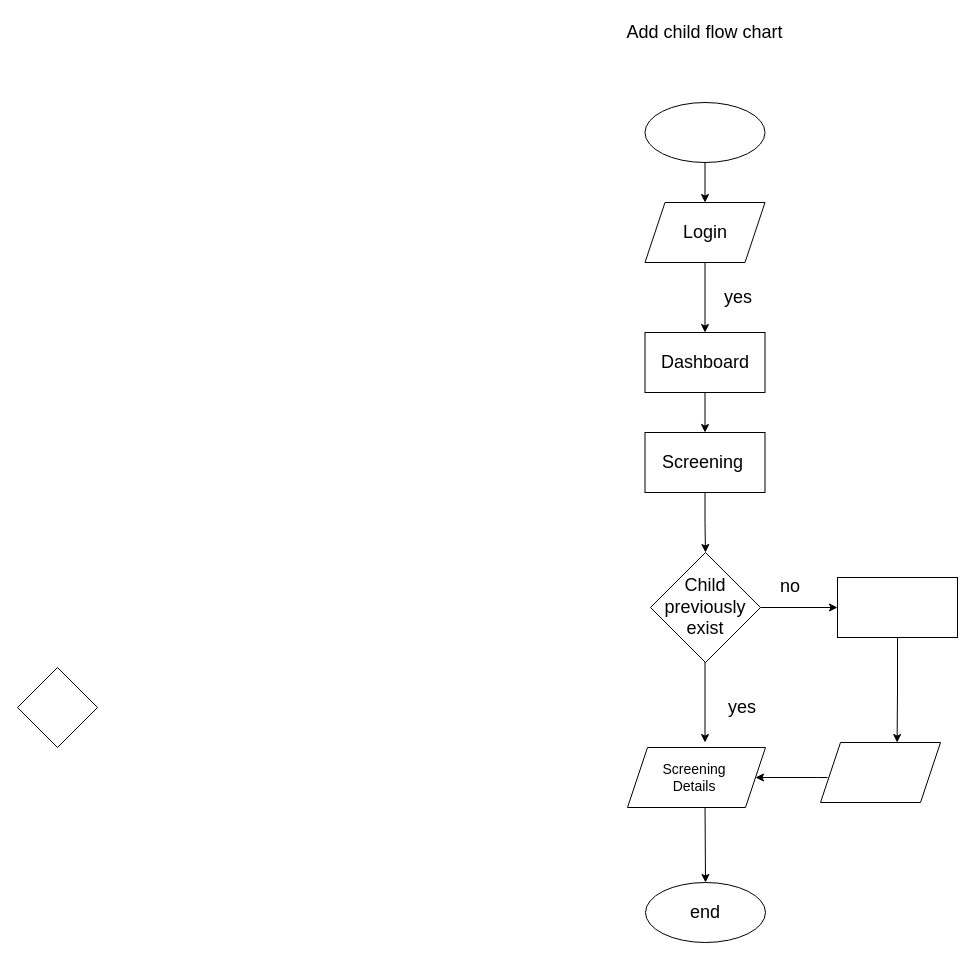
Image size: 975x960. Some labels were removed from this diagram. The shapes that lost their labels are listed below. From the top down, each one's centre as x and y in pixels, then its label:
point 704,132: Start
point 897,607: Add child
point 880,772: Basic/Family Information
